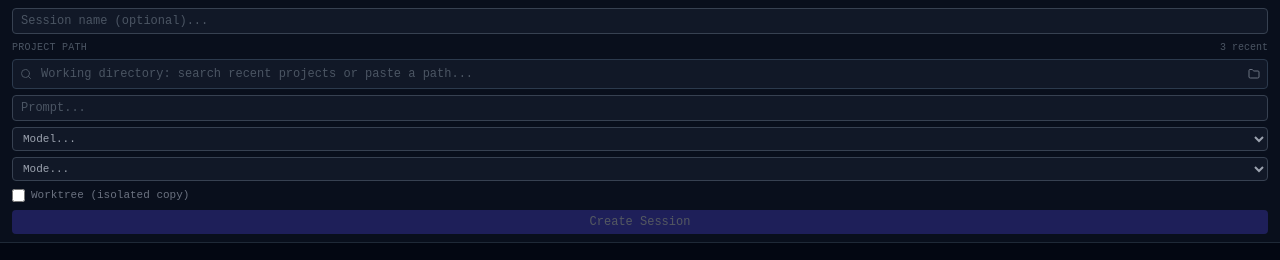
Scenario: NewSessionForm — folder picker integration › filters and selects recent project paths from the path combobox
Focus the dropdown named "project path" at [640, 74], box [12,59,1268,89]
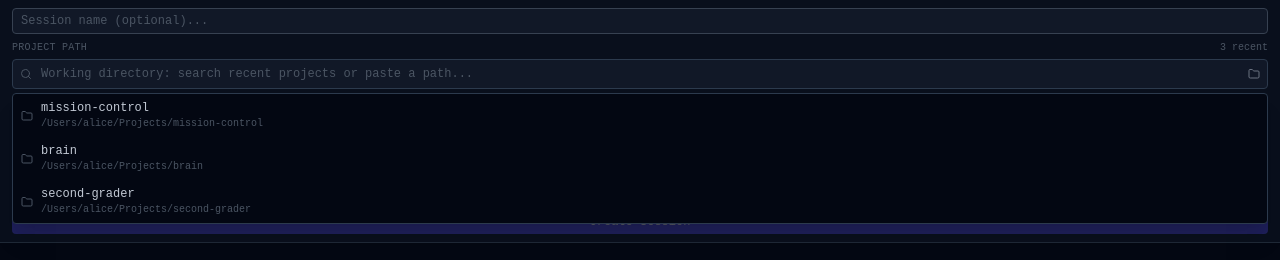
Check: the text "mission-control" is shown, box [41,101,149,115]
Check: the text "brain" is shown, box [41,144,77,158]
Type "brain" into the dropdown named "project path" at [640, 74], box [12,59,1268,89]
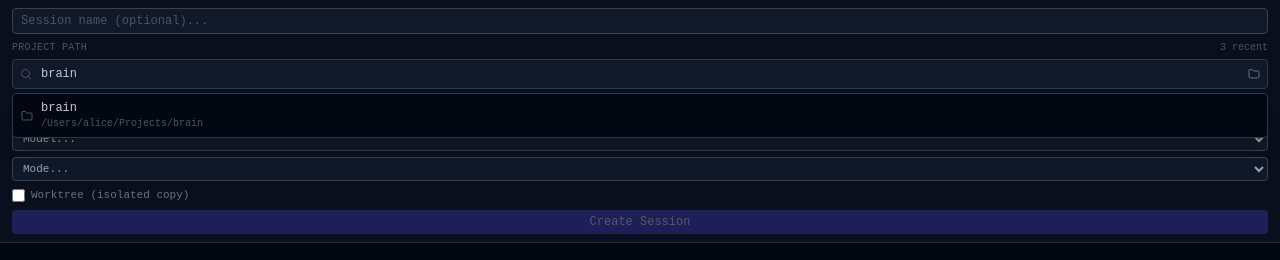
Check: the text "/Users/alice/Projects/brain" is shown, box [41,118,203,129]
Check: the option "/Users/alice/Projects/mission-control" is gone
Click the text "brain" at [59, 108], box [41,101,77,115]
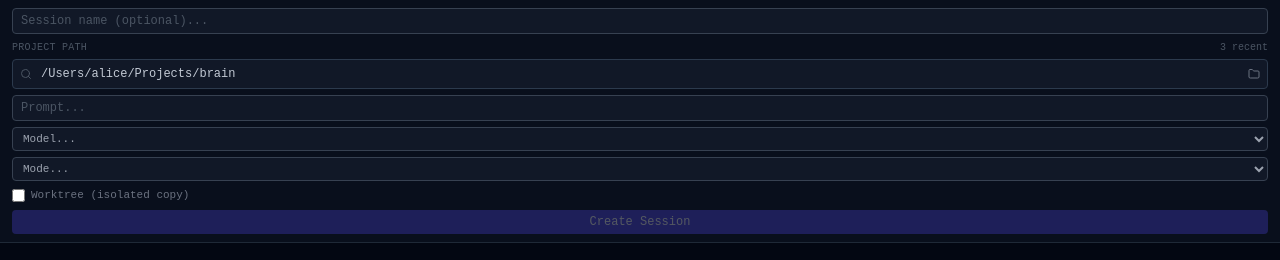
Check: the dropdown named "project path" holds "/Users/alice/Projects/brain", box [12,59,1268,89]
